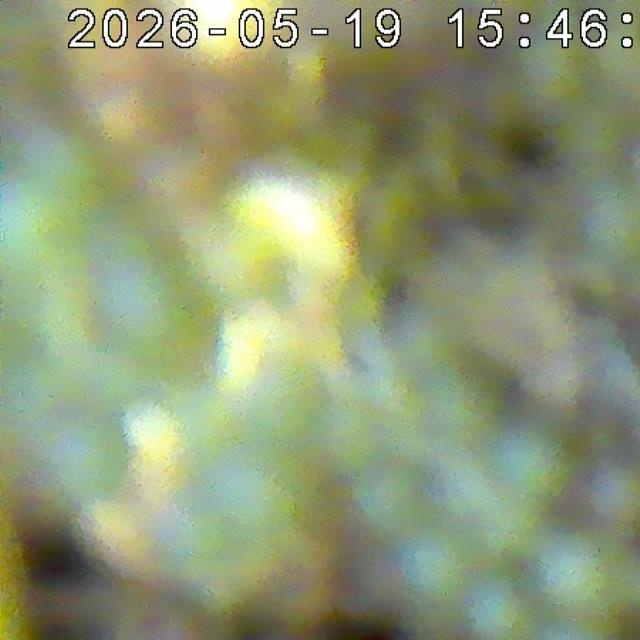SeaGrape: (528, 522, 629, 627), (482, 415, 580, 511), (389, 521, 481, 614), (347, 458, 429, 544), (460, 577, 541, 640), (583, 456, 640, 538)
